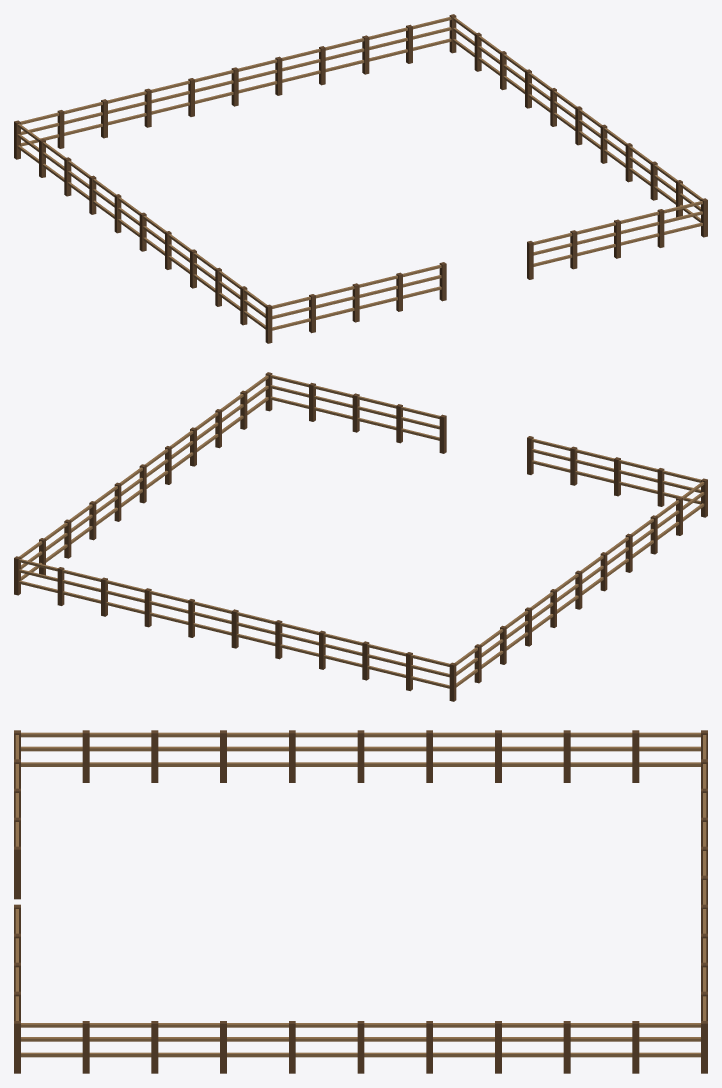
File: curral_a.glb
3 views of the same model, one above another, from view 1: azimuth 30°, elevation 25°; view 2: azimuth 150°, elevation 25°; view 3: azimuth 270°, elevation 25° (orthographic). The views are drawn at different scales.
Visible parts, largest first — view 1: curral_a; view 2: curral_a; view 3: curral_a.
Boxes of the visible parts, x1,y1,x2,y2 form: curral_a: [14, 14, 707, 343]; curral_a: [14, 372, 707, 701]; curral_a: [14, 730, 707, 1073].
Bounding box in the file's own units: 20.2 × 1.6 × 20.2.
